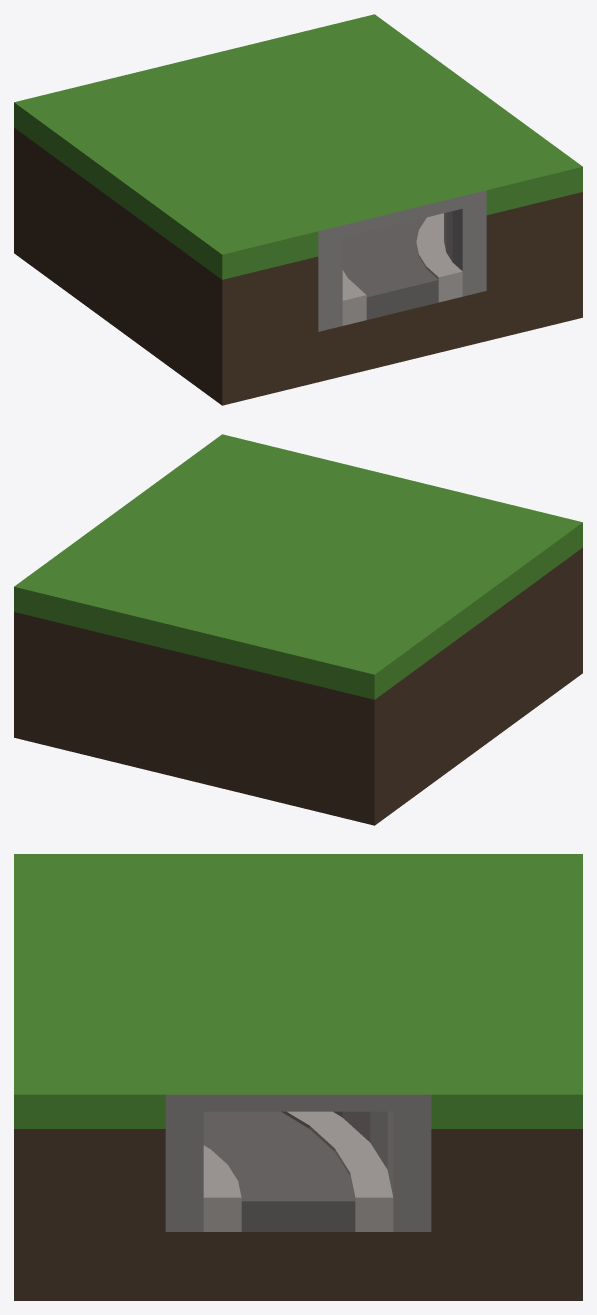
The model's file is tile-road-tunnel-curve.fbx.
The picture shows the model from 3 angles, top to bottom: view 1: azimuth 30°, elevation 25°; view 2: azimuth 150°, elevation 25°; view 3: azimuth 270°, elevation 25°; orthographic projection. The views are drawn at different scales.
Parts seen in each view (by area): view 1: tile-road-tunnel-curve; view 2: tile-road-tunnel-curve; view 3: tile-road-tunnel-curve.
Part boxes in pixels (box(x1,y1,x2,y2)): tile-road-tunnel-curve: box(14, 14, 582, 405); tile-road-tunnel-curve: box(14, 434, 582, 825); tile-road-tunnel-curve: box(14, 854, 582, 1300).
Bounding box in the file's own units: 30 × 12 × 30.
